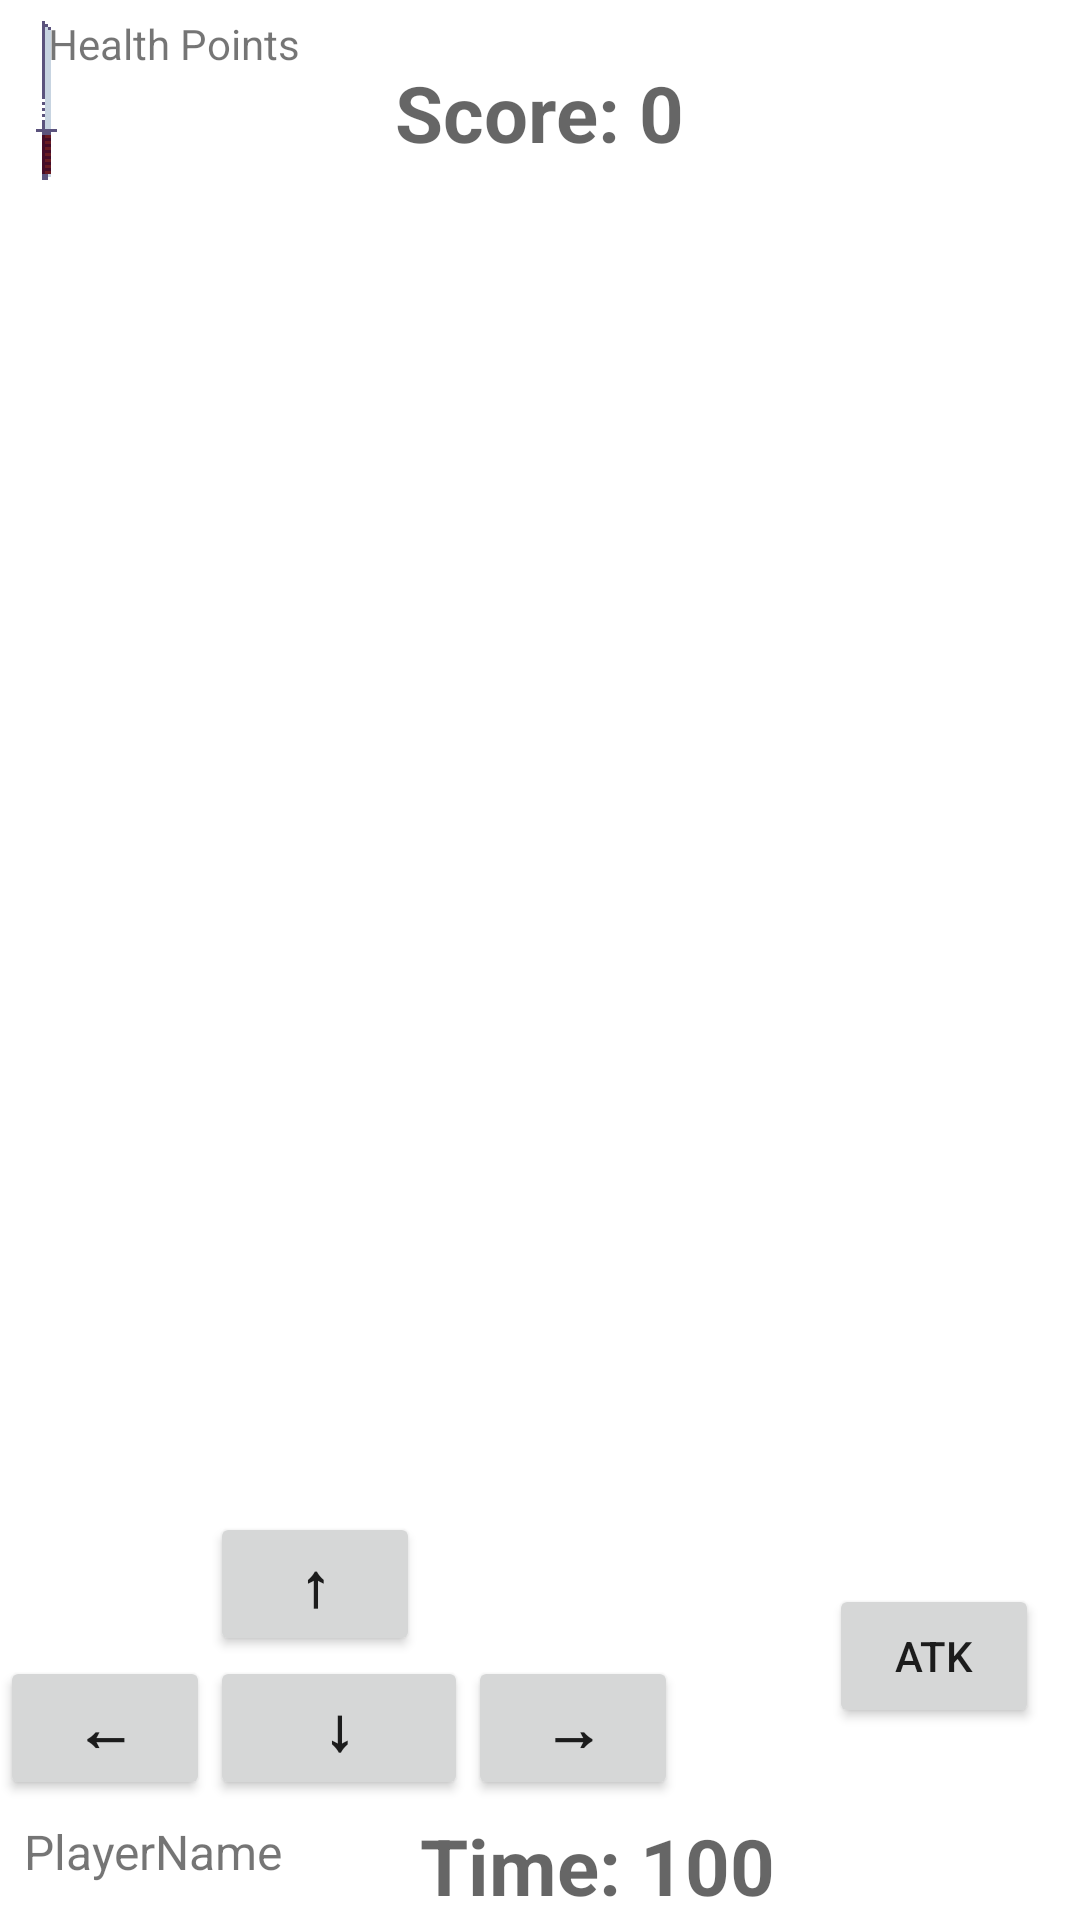

Named icons in this screenshot (1080x1920) and their centers, (x=x, y=y):
sword: (x=55, y=100)
